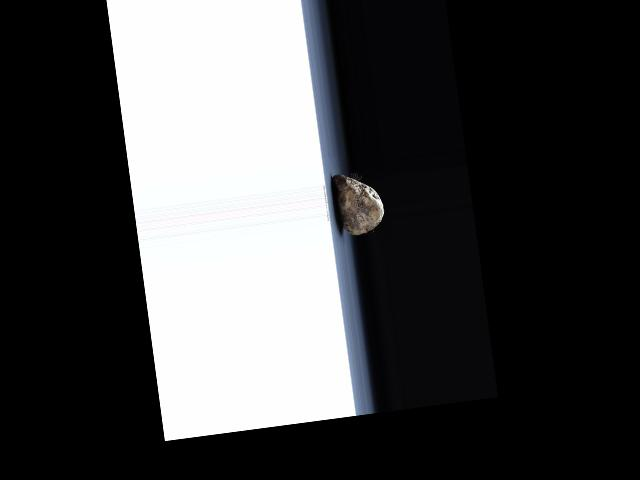beet: (332, 170, 386, 238)
